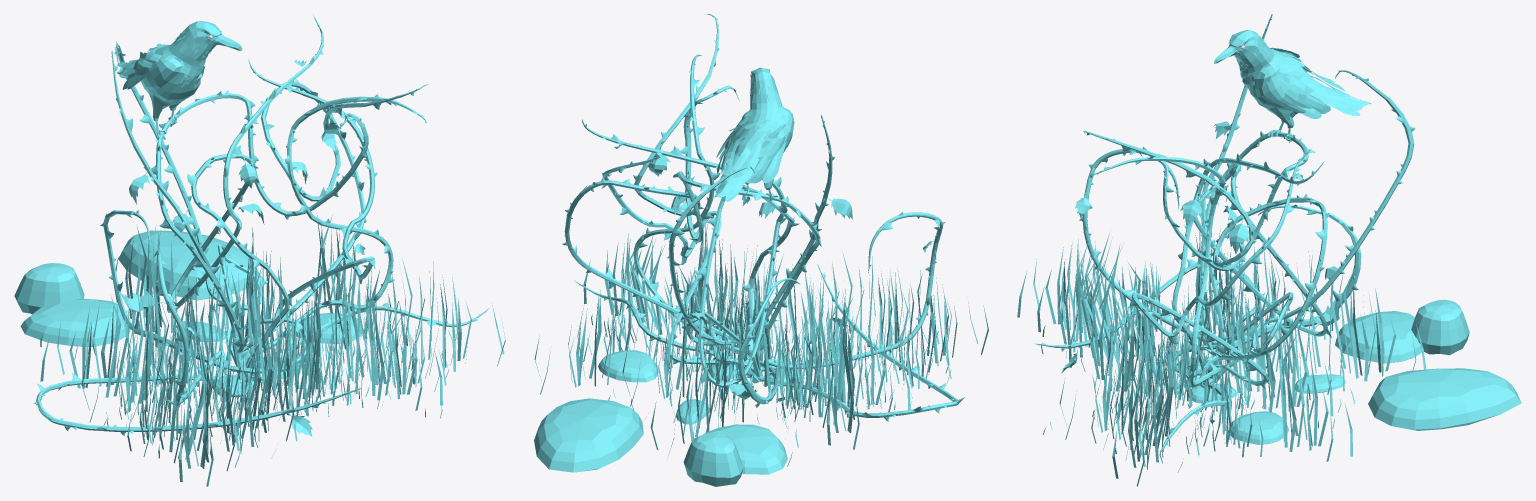
The picture shows the model from 3 angles, left to right: view 1: azimuth 30°, elevation 25°; view 2: azimuth 150°, elevation 25°; view 3: azimuth 270°, elevation 25°; orthographic projection. The views are drawn at different scales.
Parts seen in each view (by area): view 1: crow; view 2: crow; view 3: crow.
Boxes of the visible parts, left/top/right/bottom form: crow: left=14, top=15, right=505, bottom=486; crow: left=534, top=14, right=988, bottom=486; crow: left=1017, top=14, right=1521, bottom=486.
Bounding box in the file's own units: 3048 × 2380 × 3186.
